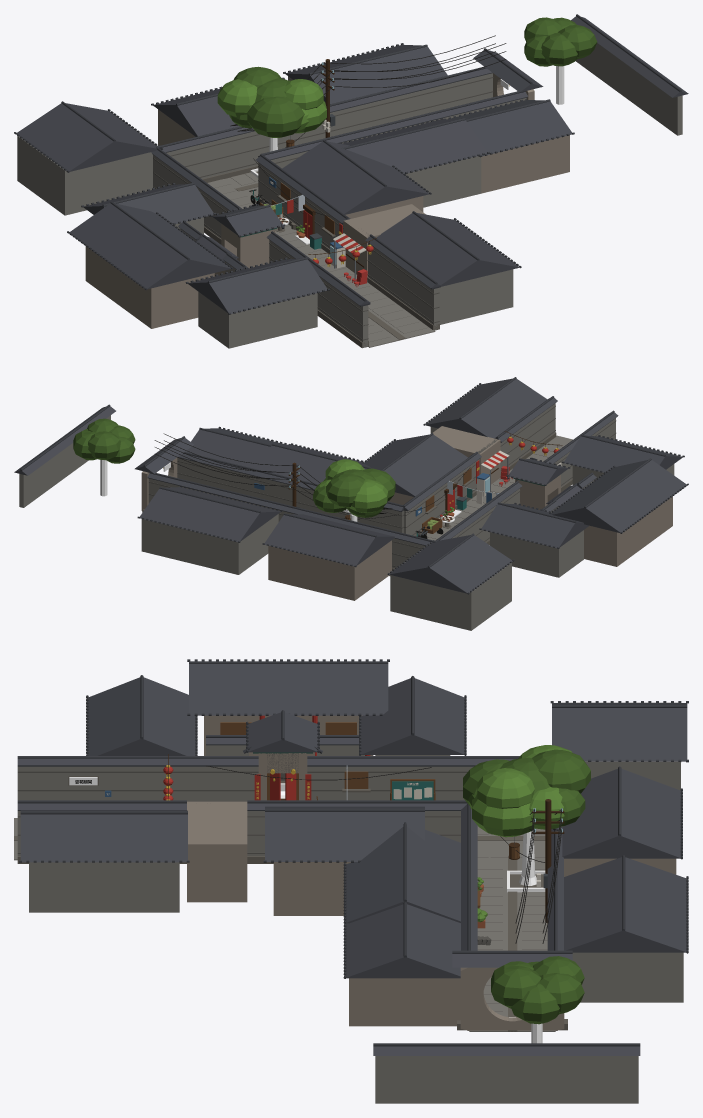
Rendered from hutong-corner.glb.
The picture shows the model from 3 angles, top to bottom: view 1: azimuth 30°, elevation 25°; view 2: azimuth 150°, elevation 25°; view 3: azimuth 270°, elevation 25°; orthographic projection. The views are drawn at different scales.
Visible parts, largest first — view 1: Hall_roof, N_wall, Corner_house, E_house2_roof, Corner_house_roof, E_house1_roof, N_house3_roof, E_house3_roof, Hall, Wing_s_roof, Wing_s, E_house4_roof (+36 smaller); view 2: Hall_roof, Corner_house, N_house3_roof, N_house3, N_house2, Corner_house_roof, E_house1_roof, N_house2_roof, E_house2_roof, E_wall_branch, Hall, Wing_n_roof (+31 smaller); view 3: Beyond_wall, N_house3_roof, Hall_roof, N_house2_roof, E_house1_roof, E_house3_roof, E_house1, W_wall_s, Corner_house_roof, E_house4_roof, Wing_s_roof, E_house2_roof (+39 smaller).
Part boxes in pixels (bbox=[...]): Hall_roof: bbox=[69, 203, 230, 289]; N_wall: bbox=[153, 73, 492, 187]; Corner_house: bbox=[17, 113, 157, 215]; E_house2_roof: bbox=[282, 141, 429, 214]; Corner_house_roof: bbox=[16, 103, 156, 171]; E_house1_roof: bbox=[376, 213, 519, 286]; N_house3_roof: bbox=[285, 44, 447, 103]; E_house3_roof: bbox=[342, 119, 487, 173]; Hall: bbox=[85, 246, 214, 328]; Wing_s_roof: bbox=[187, 258, 327, 313]; Wing_s: bbox=[198, 292, 317, 348]; E_house4_roof: bbox=[448, 100, 571, 156]; Hall_roof: bbox=[551, 460, 686, 532]; Corner_house: bbox=[390, 545, 511, 630]; N_house3_roof: bbox=[140, 487, 280, 542]; N_house3: bbox=[141, 514, 278, 574]; N_house2: bbox=[268, 540, 391, 600]; Corner_house_roof: bbox=[389, 535, 512, 593]; E_house1_roof: bbox=[425, 378, 547, 438]; N_house2_roof: bbox=[265, 514, 394, 566]; E_house2_roof: bbox=[364, 434, 467, 496]; E_wall_branch: bbox=[177, 457, 403, 532]; Hall: bbox=[584, 496, 672, 566]; Wing_n_roof: bbox=[481, 503, 588, 548]; Beyond_wall: bbox=[375, 1056, 638, 1103]; N_house3_roof: bbox=[564, 857, 686, 952]; Hall_roof: bbox=[189, 664, 388, 715]; N_house2_roof: bbox=[562, 768, 681, 858]; E_house1_roof: bbox=[20, 810, 187, 862]; E_house3_roof: bbox=[345, 827, 460, 923]; E_house1: bbox=[29, 862, 179, 912]; W_wall_s: bbox=[17, 766, 258, 801]; Corner_house_roof: bbox=[552, 703, 687, 761]; E_house4_roof: bbox=[345, 904, 460, 978]; Wing_s_roof: bbox=[88, 677, 195, 755]; E_house2_roof: bbox=[265, 806, 424, 861].
Size of what is drawn, in the model's own units: 48.62 by 7.49 by 35.88.
